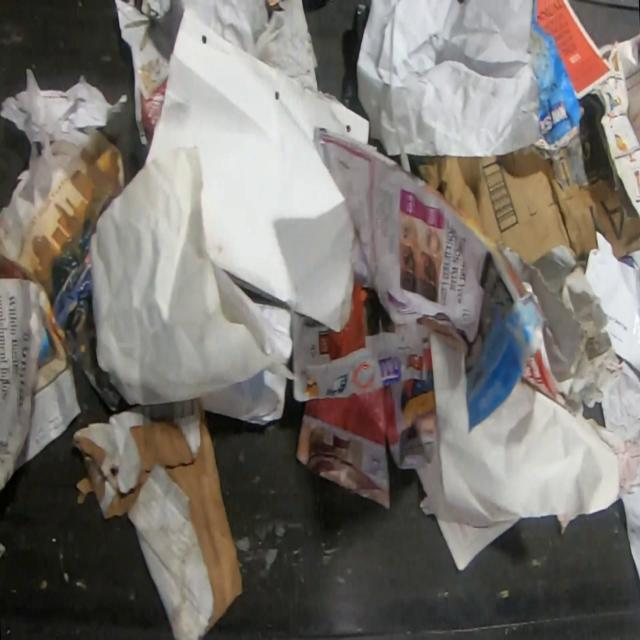cardboard: (69, 395, 245, 639), (417, 94, 640, 266), (516, 246, 622, 409), (528, 0, 585, 149)
soft_plastic: (208, 0, 319, 78)
